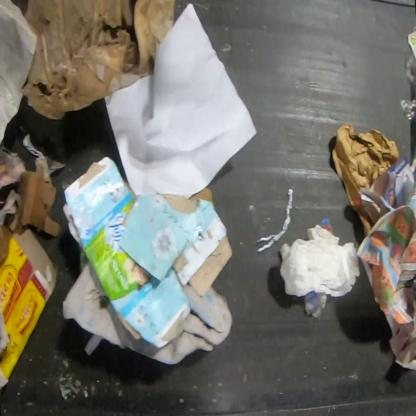cardboard: (62, 154, 234, 350), (22, 0, 177, 121), (0, 223, 58, 389)
soft_plastic: (399, 98, 415, 122)
